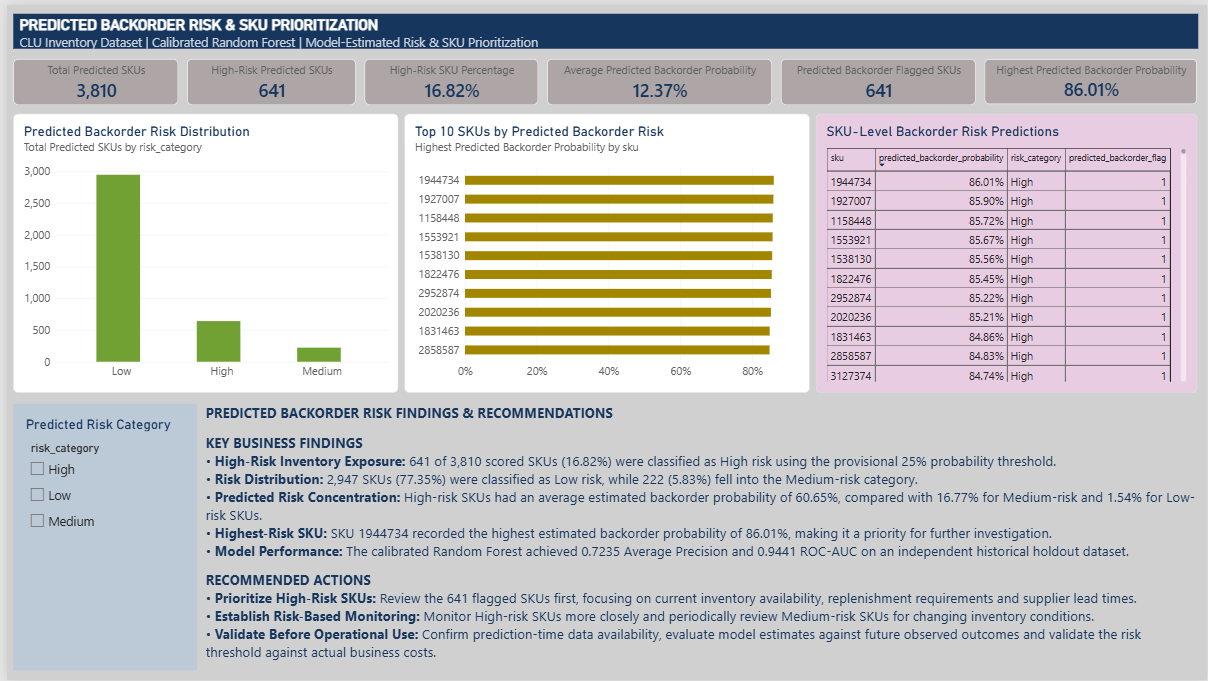

This screenshot's page, from the dashboard's own definition file:
{"tool":"powerbi","page":{"name":"06 | Predicted Backorder Risk","canvas":[1920,1080],"ordinal":6},"visuals":[{"type":"textbox","title":"PREDICTED BACKORDER RISK & SKU PRIORITIZATION","box":[10,14,1896,56],"z":0},{"type":"cardVisual","fields":{"Data":["sku_backorder_predictions.Total Predicted SKUs"]},"box":[10,86,264,74],"z":1000},{"type":"cardVisual","fields":{"Data":["sku_backorder_predictions.High-Risk Predicted SKUs"]},"box":[288.1,86,270,74],"z":2000},{"type":"cardVisual","fields":{"Data":["sku_backorder_predictions.High-Risk SKU Percentage"]},"box":[572.2,86,278,74],"z":3000},{"type":"cardVisual","fields":{"Data":["sku_backorder_predictions.Average Predicted Backorder Probability"]},"box":[864.3,86,360,74],"z":4000},{"type":"cardVisual","fields":{"Data":["sku_backorder_predictions.Predicted Backorder Flagged SKUs"]},"box":[1238.3,86,312,74],"z":5000},{"type":"cardVisual","fields":{"Data":["sku_backorder_predictions.Highest Predicted Backorder Probability"]},"box":[1564.4,86.5,340.5,73.6],"z":6000},{"type":"clusteredBarChart","title":"Top 10 SKUs by Predicted Backorder Risk","fields":{"Category":["mart fact_inventory.sku"],"Y":["sku_backorder_predictions.Highest Predicted Backorder Probability"]},"box":[636,174,648,446],"z":7000},{"type":"clusteredColumnChart","title":"Predicted Backorder Risk Distribution","fields":{"Category":["sku_backorder_predictions.risk_category"],"Y":["sku_backorder_predictions.Total Predicted SKUs"]},"box":[10,174,616,446],"z":8000},{"type":"tableEx","title":"SKU-Level Backorder Risk Predictions","fields":{"Values":["mart fact_inventory.sku","sku_backorder_predictions.predicted_backorder_probability","sku_backorder_predictions.risk_category","sku_backorder_predictions.predicted_backorder_flag"]},"box":[1294,174,610,446],"z":9000},{"type":"slicer","title":"Predicted Risk Category","fields":{"Values":["sku_backorder_predictions.risk_category"]},"box":[10,638,294,426],"z":10000},{"type":"textbox","box":[318,638,1586,426],"z":11000}]}

Visuals, with their boxes in screenshot pixels (x1, y1, x2, y2), scaled from the page's 1920x1080 canvas onto the 1208x681 screenshot:
"PREDICTED BACKORDER RISK & SKU PRIORITIZATION" textbox: Rect(6, 9, 1199, 44)
cardVisual - sku_backorder_predictions.Total Predicted SKUs: Rect(6, 54, 172, 101)
cardVisual - sku_backorder_predictions.High-Risk Predicted SKUs: Rect(181, 54, 351, 101)
cardVisual - sku_backorder_predictions.High-Risk SKU Percentage: Rect(360, 54, 535, 101)
cardVisual - sku_backorder_predictions.Average Predicted Backorder Probability: Rect(544, 54, 770, 101)
cardVisual - sku_backorder_predictions.Predicted Backorder Flagged SKUs: Rect(779, 54, 975, 101)
cardVisual - sku_backorder_predictions.Highest Predicted Backorder Probability: Rect(984, 55, 1198, 101)
"Top 10 SKUs by Predicted Backorder Risk" clusteredBarChart: Rect(400, 110, 808, 391)
"Predicted Backorder Risk Distribution" clusteredColumnChart: Rect(6, 110, 394, 391)
"SKU-Level Backorder Risk Predictions" tableEx: Rect(814, 110, 1198, 391)
"Predicted Risk Category" slicer: Rect(6, 402, 191, 671)
textbox: Rect(200, 402, 1198, 671)
